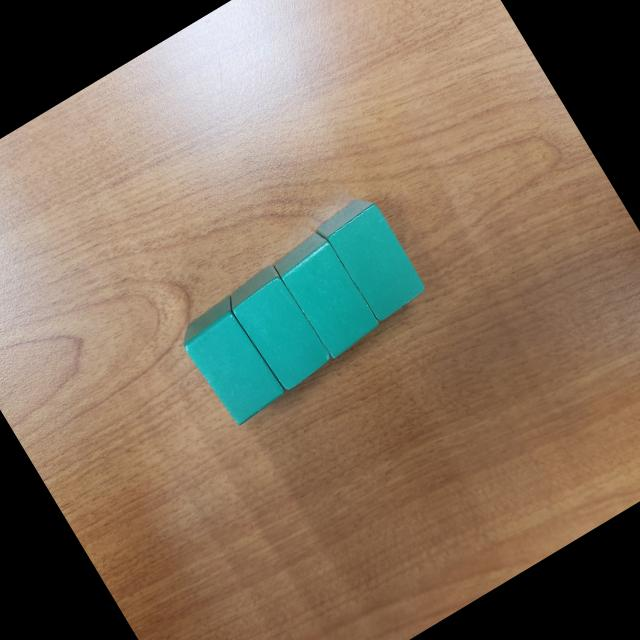green: (312, 190, 431, 327), (172, 294, 291, 431), (268, 227, 385, 363), (219, 260, 336, 396)
